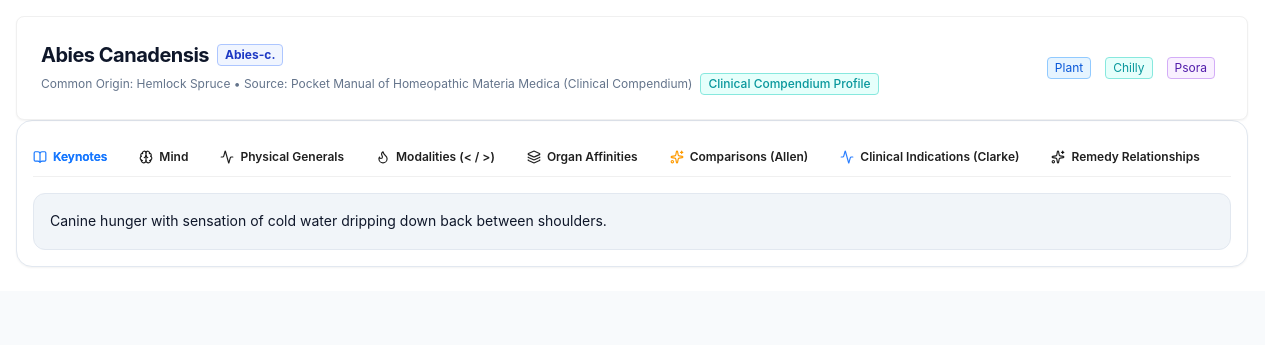
Scenario: MonographView Component › renders clinical compendium badge and synthesized parameters for rare remedies
Expected: the heading "Abies Canadensis" is shown, [41,41,209,69]
Expected: the text "Clinical Compendium Profile" is shown, [700,73,879,95]
Note: Switch to Physical Generals tab
Click the tab "Physical Generals" at (282, 157), box [220,149,344,165]
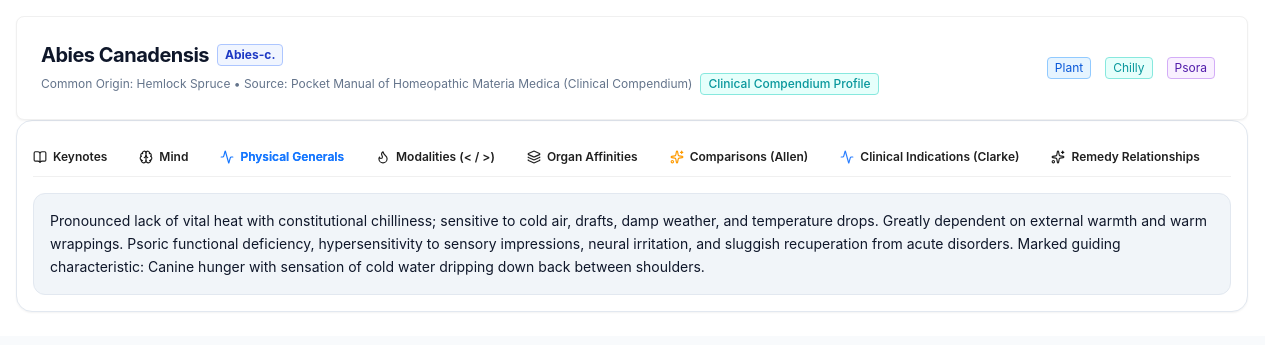
Now the text "Pronounced lack of vital heat" is shown, box [50,212,1207,274]
Note: Switch to Modalities tab
Click the tab "Modalities (< / >)" at (435, 157), box [376,149,495,165]
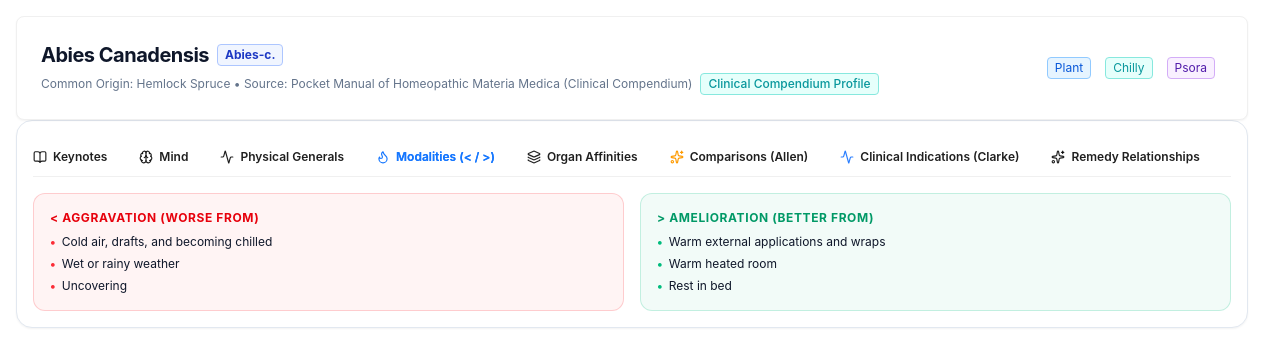
Now the text "Cold air, drafts, and becoming chilled" is shown, box [62,234,272,250]
Now the text "Warm external applications and wraps" is shown, box [669,234,886,250]
Note: Switch to Organ Affinities tab
Click the tab "Organ Affinities" at (582, 157), box [527,149,638,165]
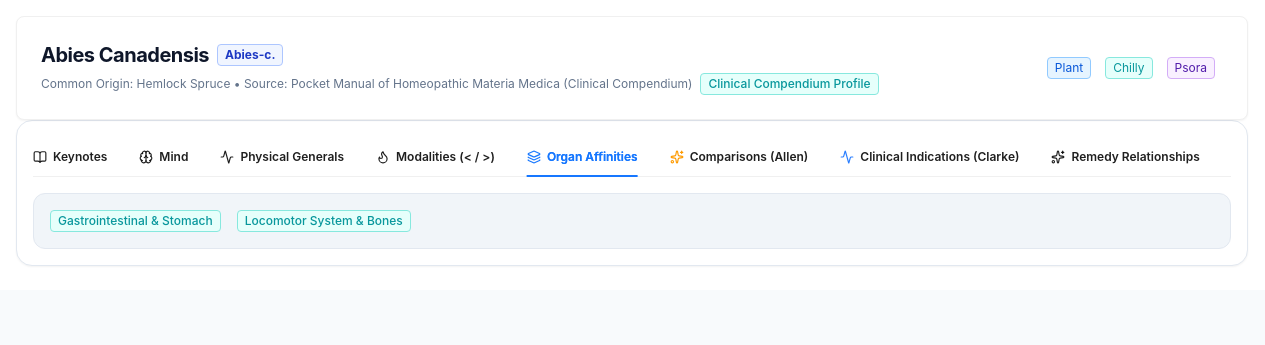
Now the text "Locomotor System & Bones" is shown, box [237,210,411,232]
Now the text "Gastrointestinal & Stomach" is shown, box [50,210,221,232]
